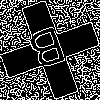B: (25, 25, 72, 79)
